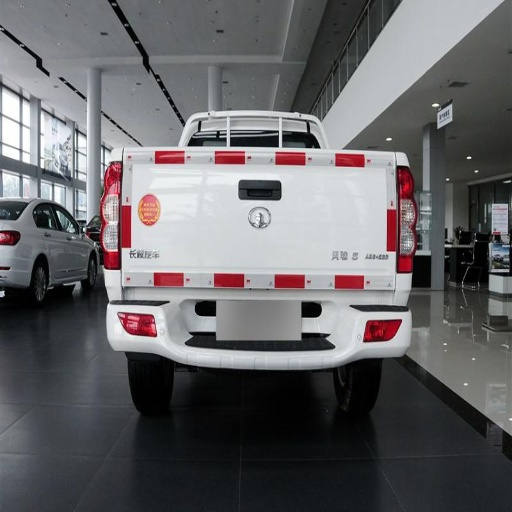trunk: (125, 152, 395, 301)
